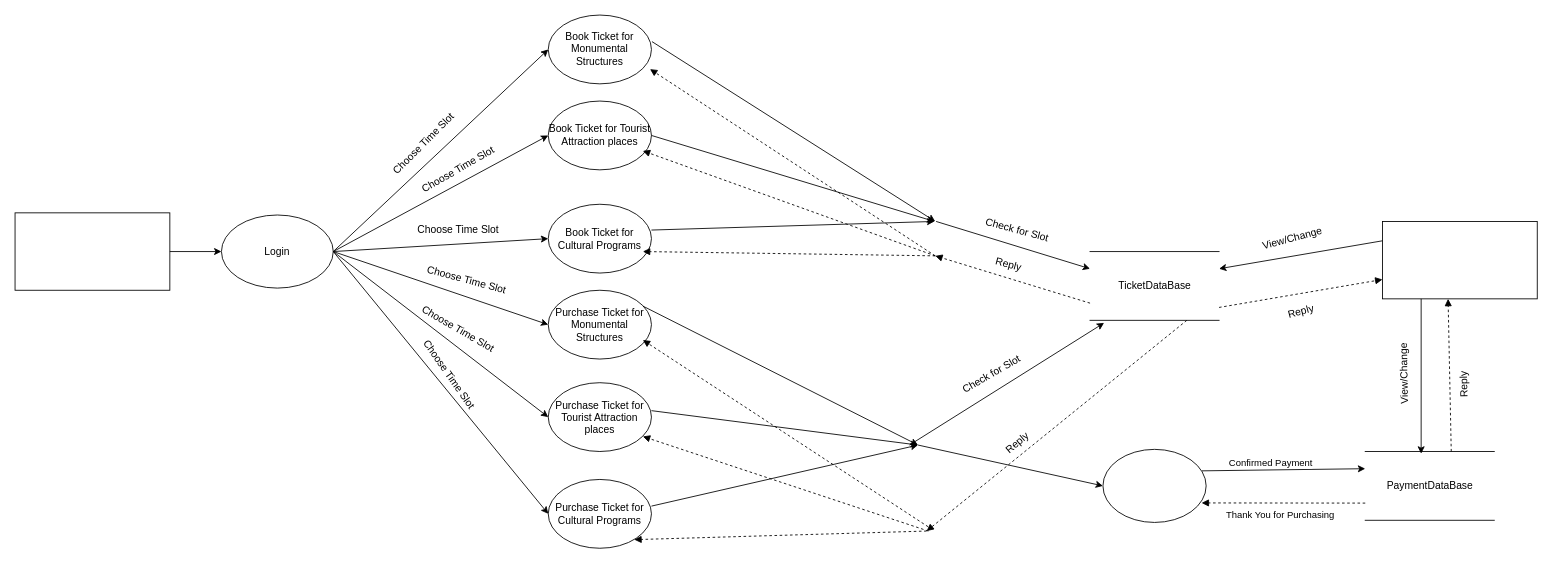
Some shapes in this 1552 by 563 pixel diagram are drawn without their labels. The shapes that lost their labels are listed below. From the top down, each one's box as (x1, y1, x2, y2) in pixels, then its label:
(14, 212, 170, 290): Tourists
(1382, 221, 1537, 299): Admin
(1102, 448, 1206, 522): Payment
